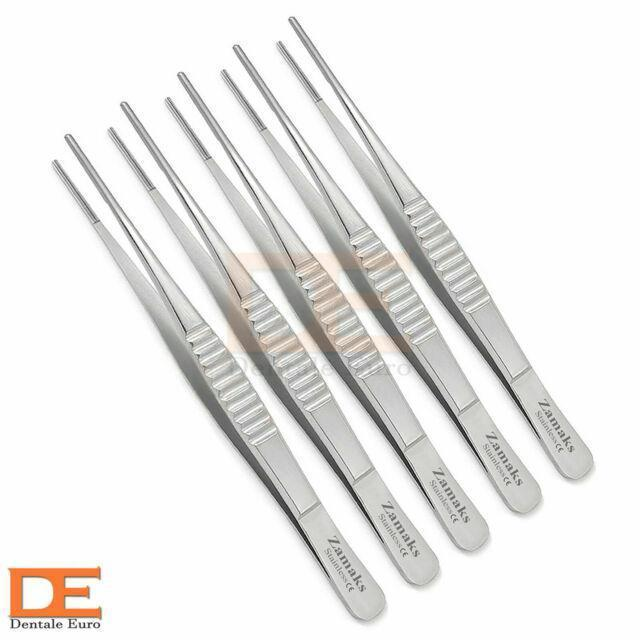Forceps: (49, 130, 389, 625), (107, 97, 443, 592), (161, 67, 492, 556), (218, 41, 545, 518), (273, 14, 598, 485)
